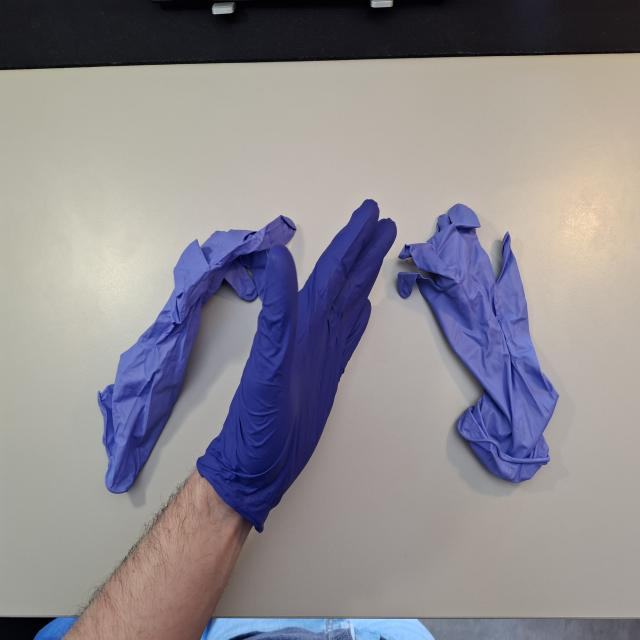glove_on: (191, 195, 400, 540)
